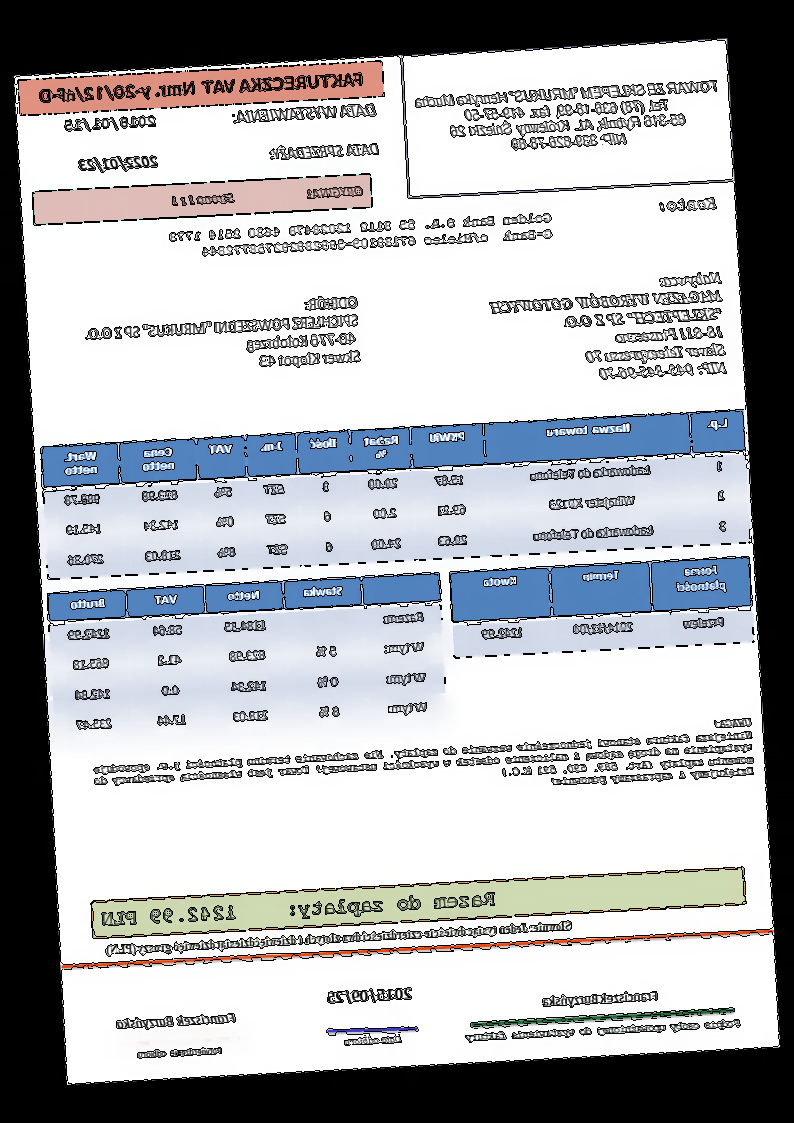Table: (40, 409, 752, 581), (45, 571, 449, 745), (450, 554, 756, 660)
TextBox: (91, 715, 757, 812), (487, 270, 729, 388), (412, 75, 724, 158), (84, 292, 362, 379), (167, 210, 553, 262), (105, 918, 573, 958), (101, 887, 498, 932), (39, 68, 367, 107), (464, 1016, 742, 1045), (169, 182, 366, 210), (230, 100, 378, 125), (115, 1011, 238, 1033), (267, 139, 382, 162), (541, 988, 661, 1009), (64, 113, 158, 135), (326, 985, 415, 1005), (75, 153, 161, 173), (136, 1044, 225, 1060), (658, 194, 719, 215), (343, 1032, 404, 1049)
